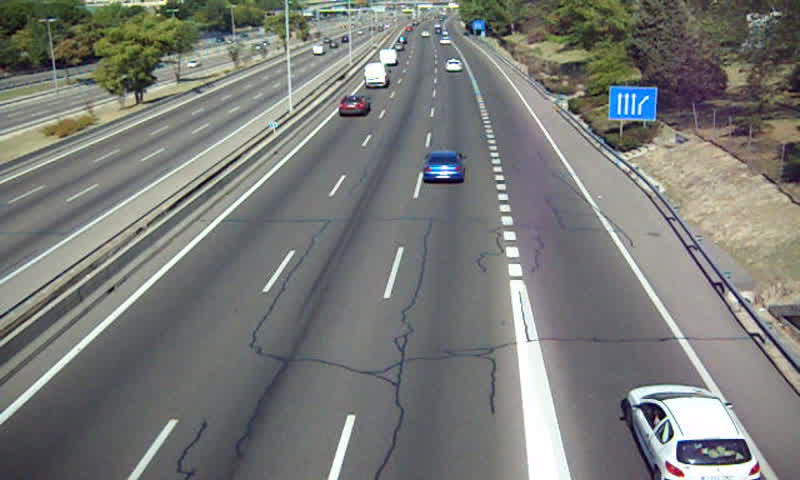car: (628, 385, 759, 480), (421, 150, 468, 185), (338, 94, 372, 116), (446, 60, 464, 72)
van: (362, 62, 392, 88), (380, 47, 396, 66)
